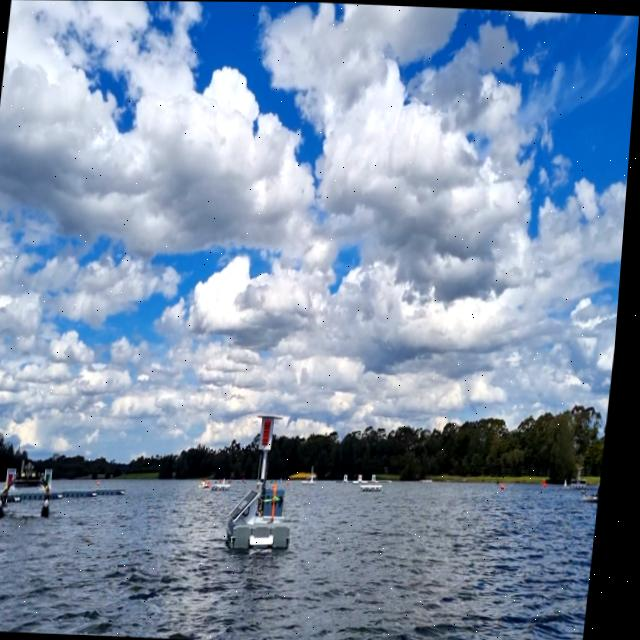led: (266, 418, 278, 448)
